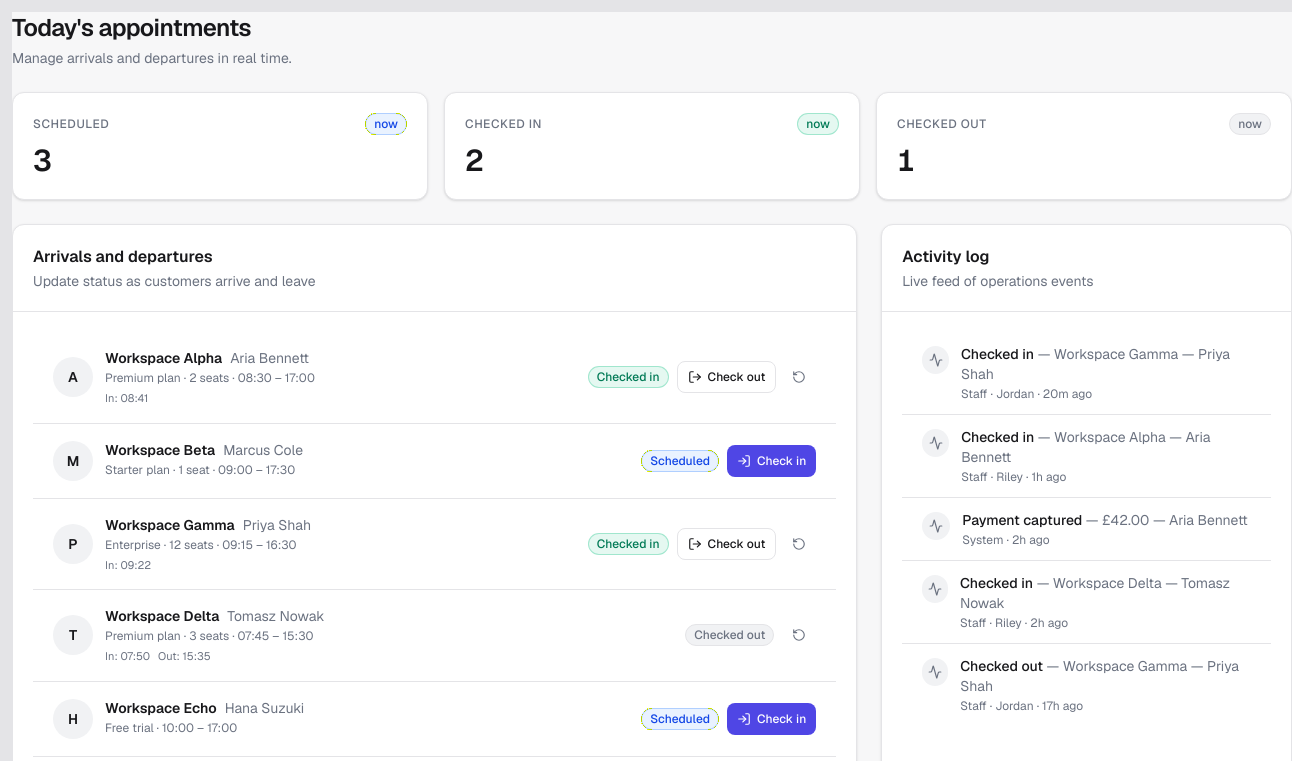
Scenario: Check-in / check-out workflow › can be reverted with the undo button after checking in
Click the button "Check in" in the row of "Workspace Beta": point(772, 460) [727,444,816,476]
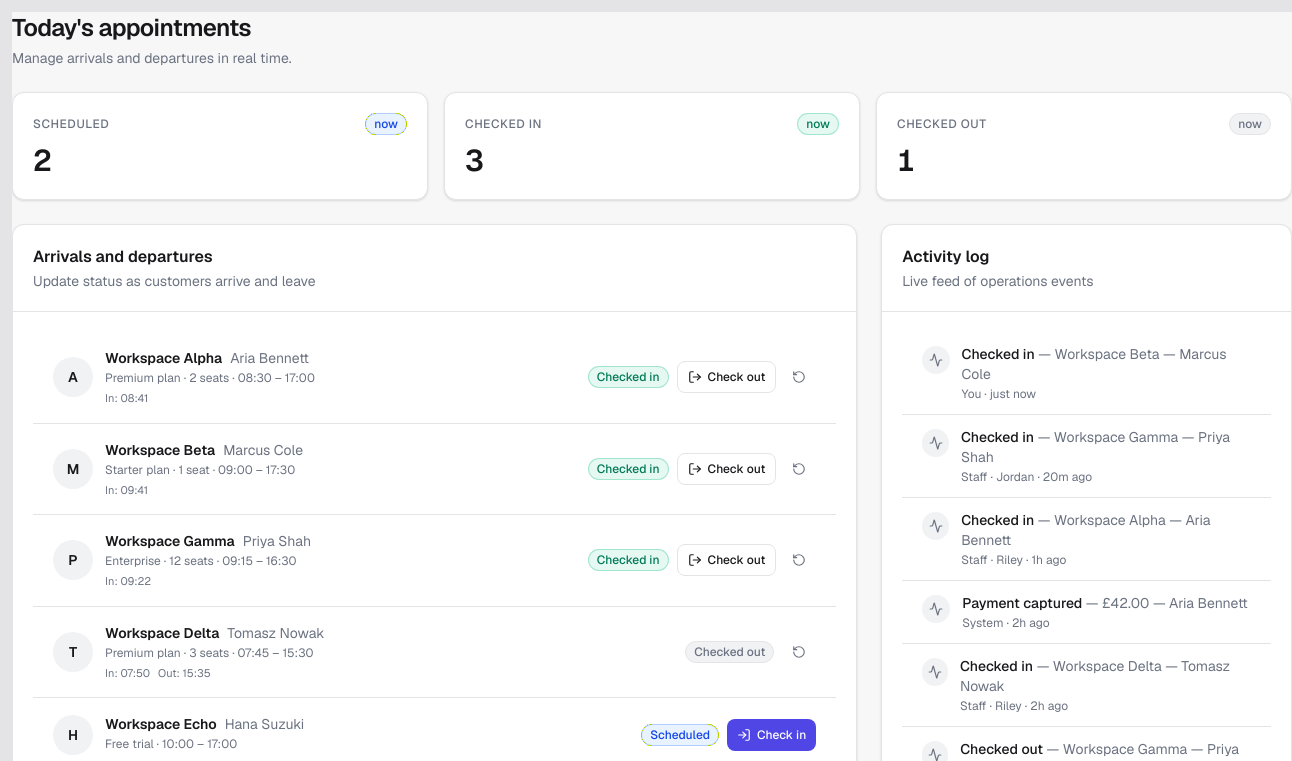
Now the text "Checked in" in the row of "Starter plan · 1 seat" is shown, box [597,461,660,477]
Click the button named "undo" in the row of "Starter plan · 1 seat": point(799, 469) [782,453,816,485]
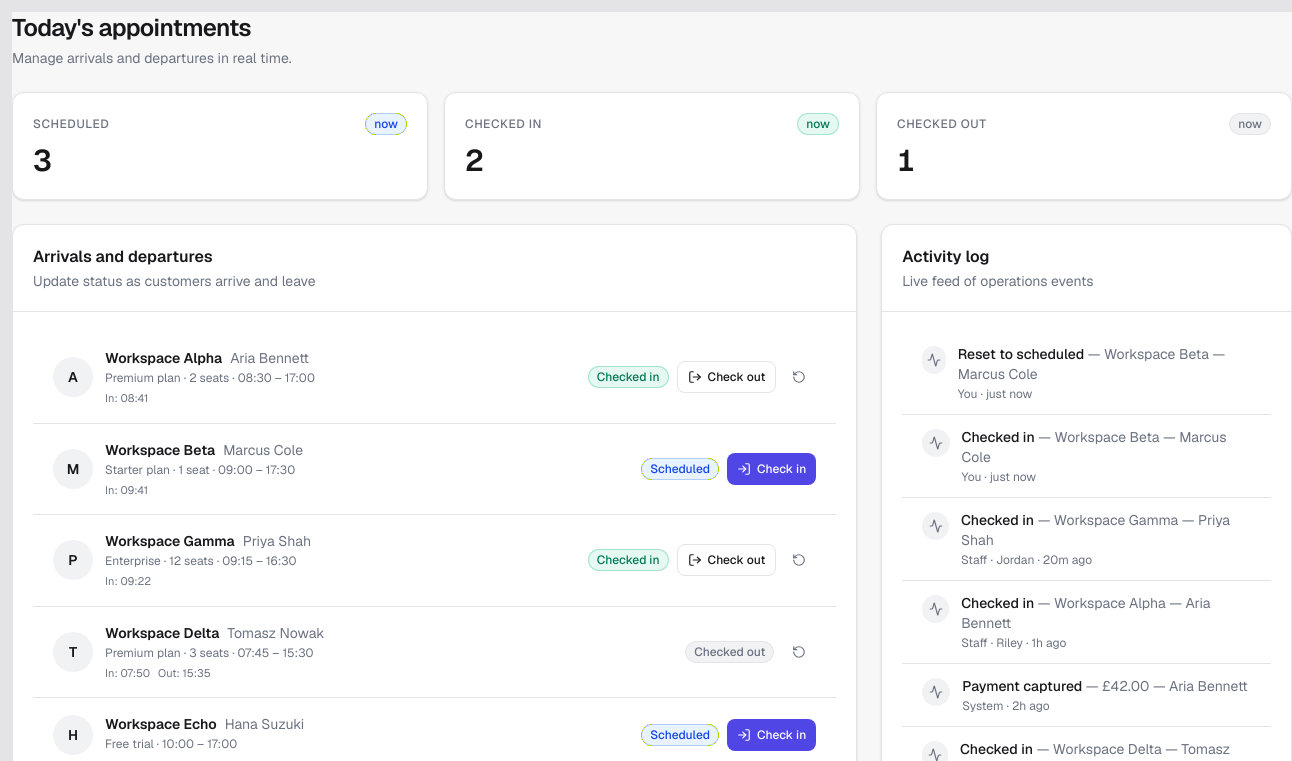
Now the text "Scheduled" in the row of "Starter plan · 1 seat" is shown, box [650,461,710,477]
